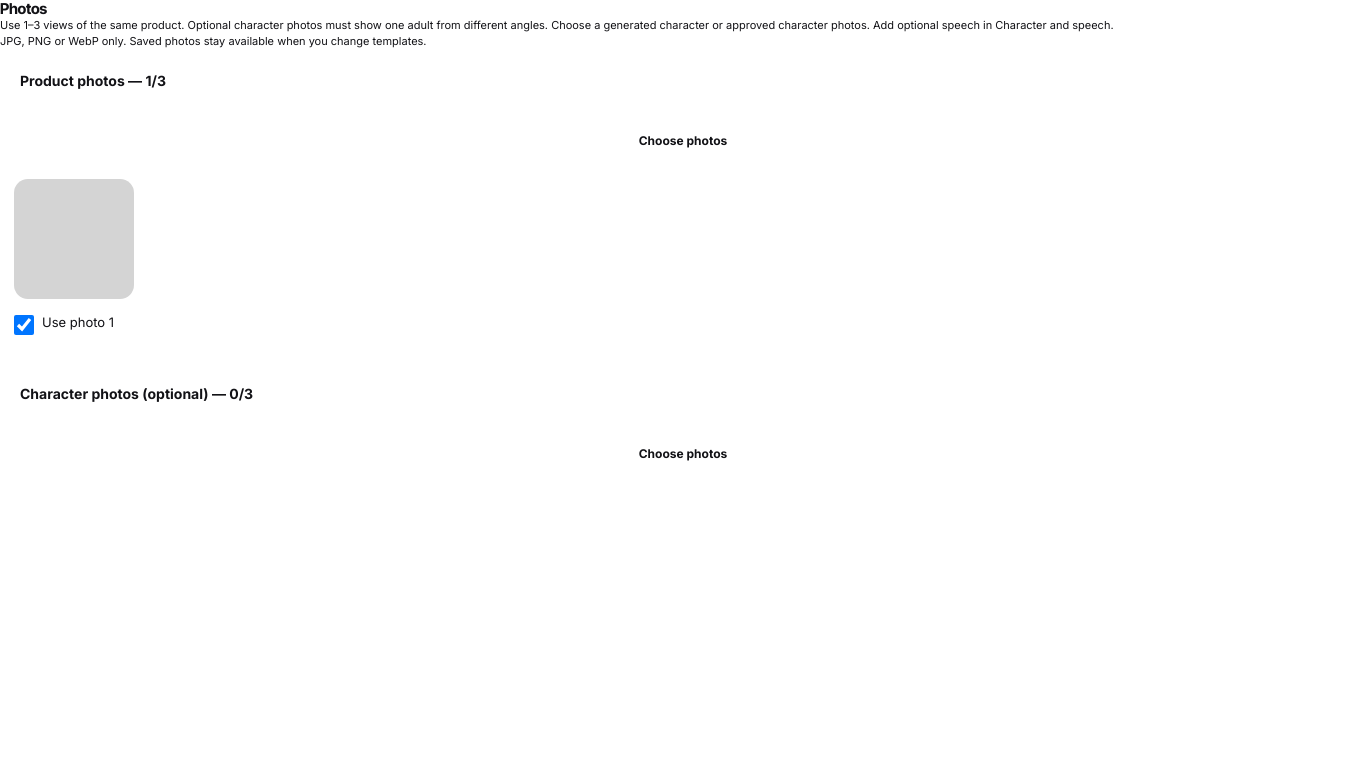
Test case: library selection and local reconciliation › lets guests open their device assets without sign-in or draft changes
Step 1. Click the button "Choose photos" below "Product photos" → (683, 141), box [14,117,1352,165]
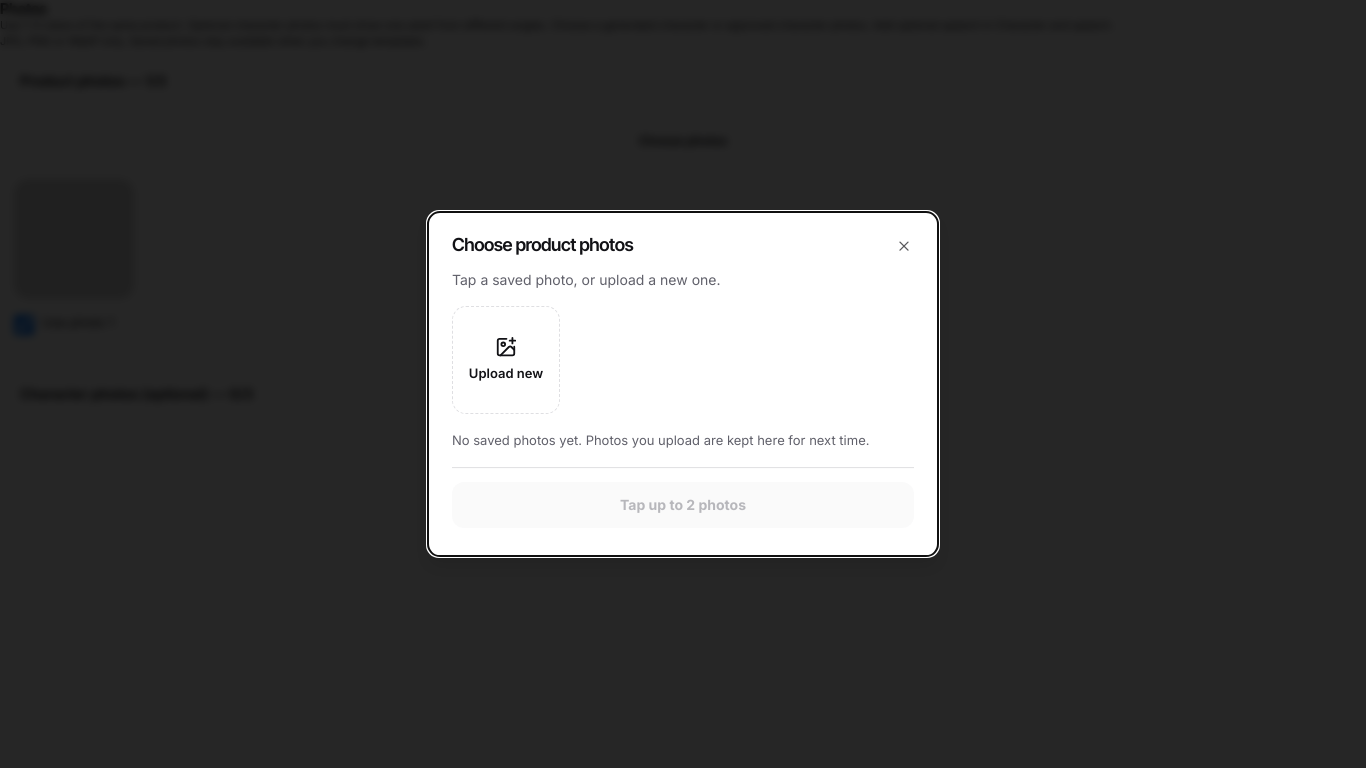
Result: the button "Upload new" is shown at [452,306,560,414]
